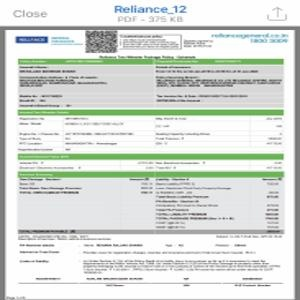table: (17, 173, 285, 234), (16, 57, 284, 108), (18, 110, 283, 152), (16, 153, 283, 171)
